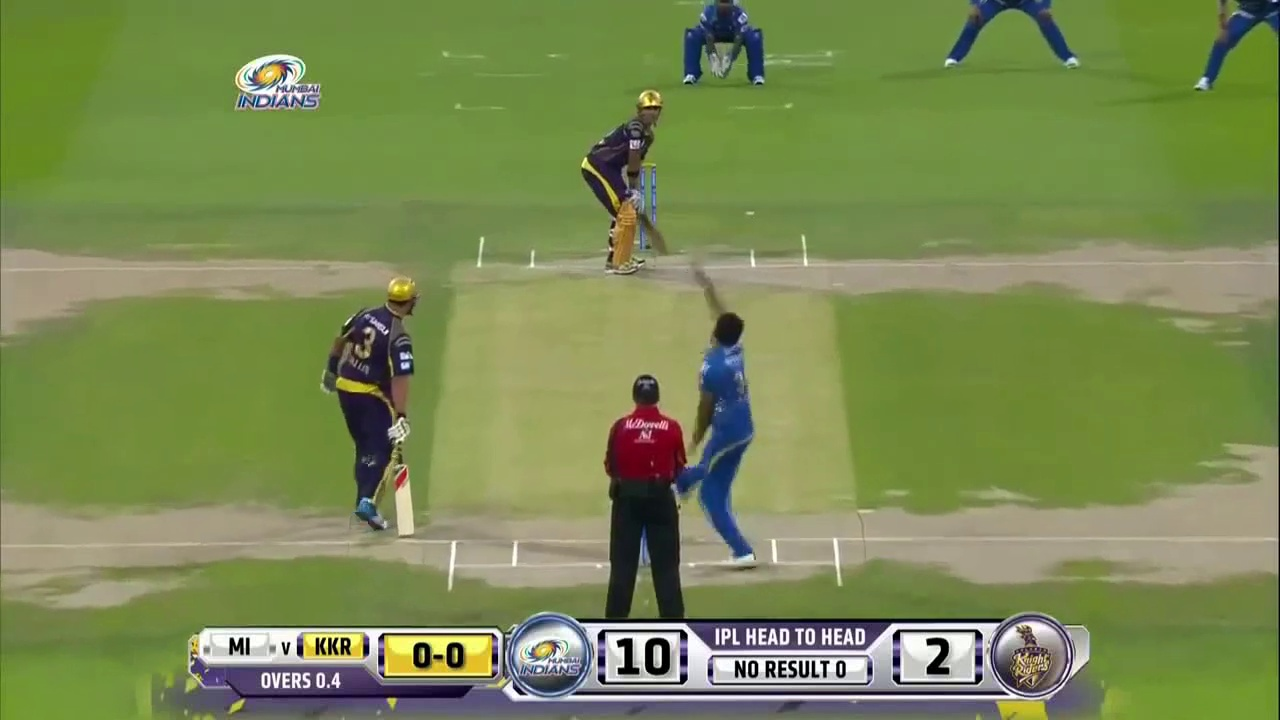bat: (390, 448, 418, 540)
